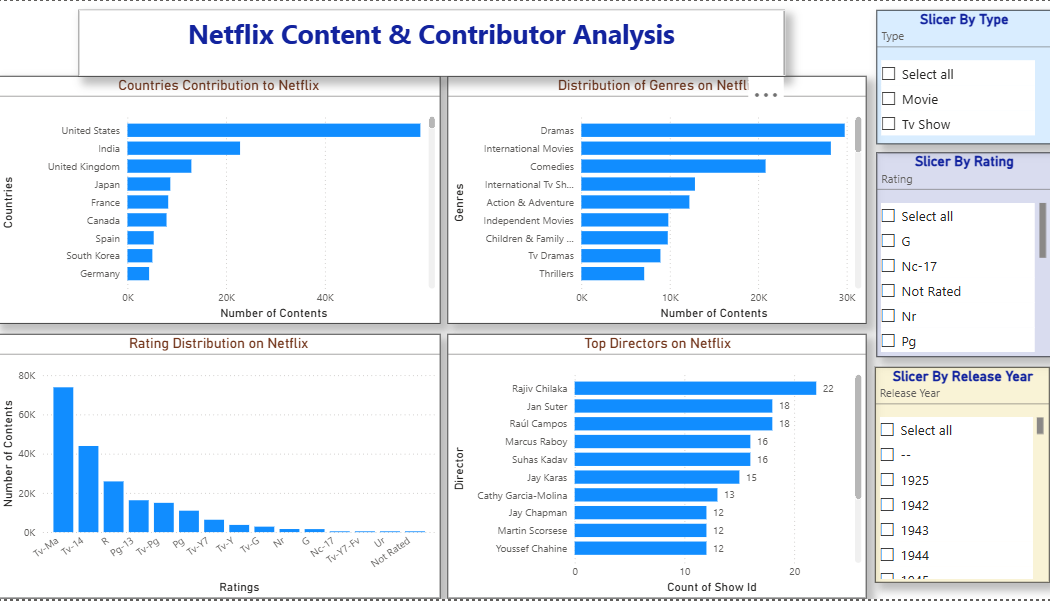

The dashboard page shown, as its layout file describes it:
{"tool":"powerbi","page":{"name":"Netflix Content Analytics — Content & Contributor Analysis","canvas":[1280,720],"ordinal":1},"visuals":[{"type":"barChart","title":"Countries Contribution to Netflix","fields":{"Category":["Netflix_titles_exploded.Country"],"Y":["CountNonNull(Netflix_titles_exploded.Show Id)"]},"box":[0,90.9,534.5,298.3],"z":0},{"type":"columnChart","title":"Rating Distribution on Netflix","fields":{"Category":["Netflix_titles_exploded.Rating"],"Y":["CountNonNull(Netflix_titles_exploded.Show Id)"]},"box":[0,401.3,534.5,318],"z":1000},{"type":"barChart","title":"Distribution of Genres on Netflix","fields":{"Category":["Netflix_titles_exploded.Listed In"],"Y":["CountNonNull(Netflix_titles_exploded.Show Id)"]},"box":[543.6,90.9,504.2,298.3],"z":2000},{"type":"barChart","title":"Top Directors on Netflix","fields":{"Category":["Netflix_titles_exploded.Director"],"Y":["Count(Netflix_titles_exploded.Show Id)"]},"box":[543.6,401.3,504.2,318],"z":3000},{"type":"listSlicer","title":"Slicer By Type","fields":{"Values":["Netflix_titles_cleaned.Type"]},"box":[1058.6,10,210,161.4],"z":4000},{"type":"listSlicer","title":"Slicer By Rating","fields":{"Values":["Netflix_titles_cleaned.Rating"]},"box":[1058.6,182.9,210,245.7],"z":5000},{"type":"listSlicer","title":"Slicer By Release Year","fields":{"Values":["Netflix_titles_cleaned.Release Year"]},"box":[1058.1,440.5,210,259.4],"z":6000},{"type":"textbox","box":[99.9,10.6,849.5,80.3],"z":6001}]}

Visuals, with their boxes in screenshot pixels (x1, y1, x2, y2), scaled from the page's 1280x720 canvas onto the 1050x601 screenshot:
"Countries Contribution to Netflix" barChart: rect(0, 76, 438, 325)
"Rating Distribution on Netflix" columnChart: rect(0, 335, 438, 600)
"Distribution of Genres on Netflix" barChart: rect(446, 76, 860, 325)
"Top Directors on Netflix" barChart: rect(446, 335, 860, 600)
"Slicer By Type" listSlicer: rect(868, 8, 1041, 143)
"Slicer By Rating" listSlicer: rect(868, 153, 1041, 358)
"Slicer By Release Year" listSlicer: rect(868, 368, 1040, 584)
textbox: rect(82, 9, 779, 76)
